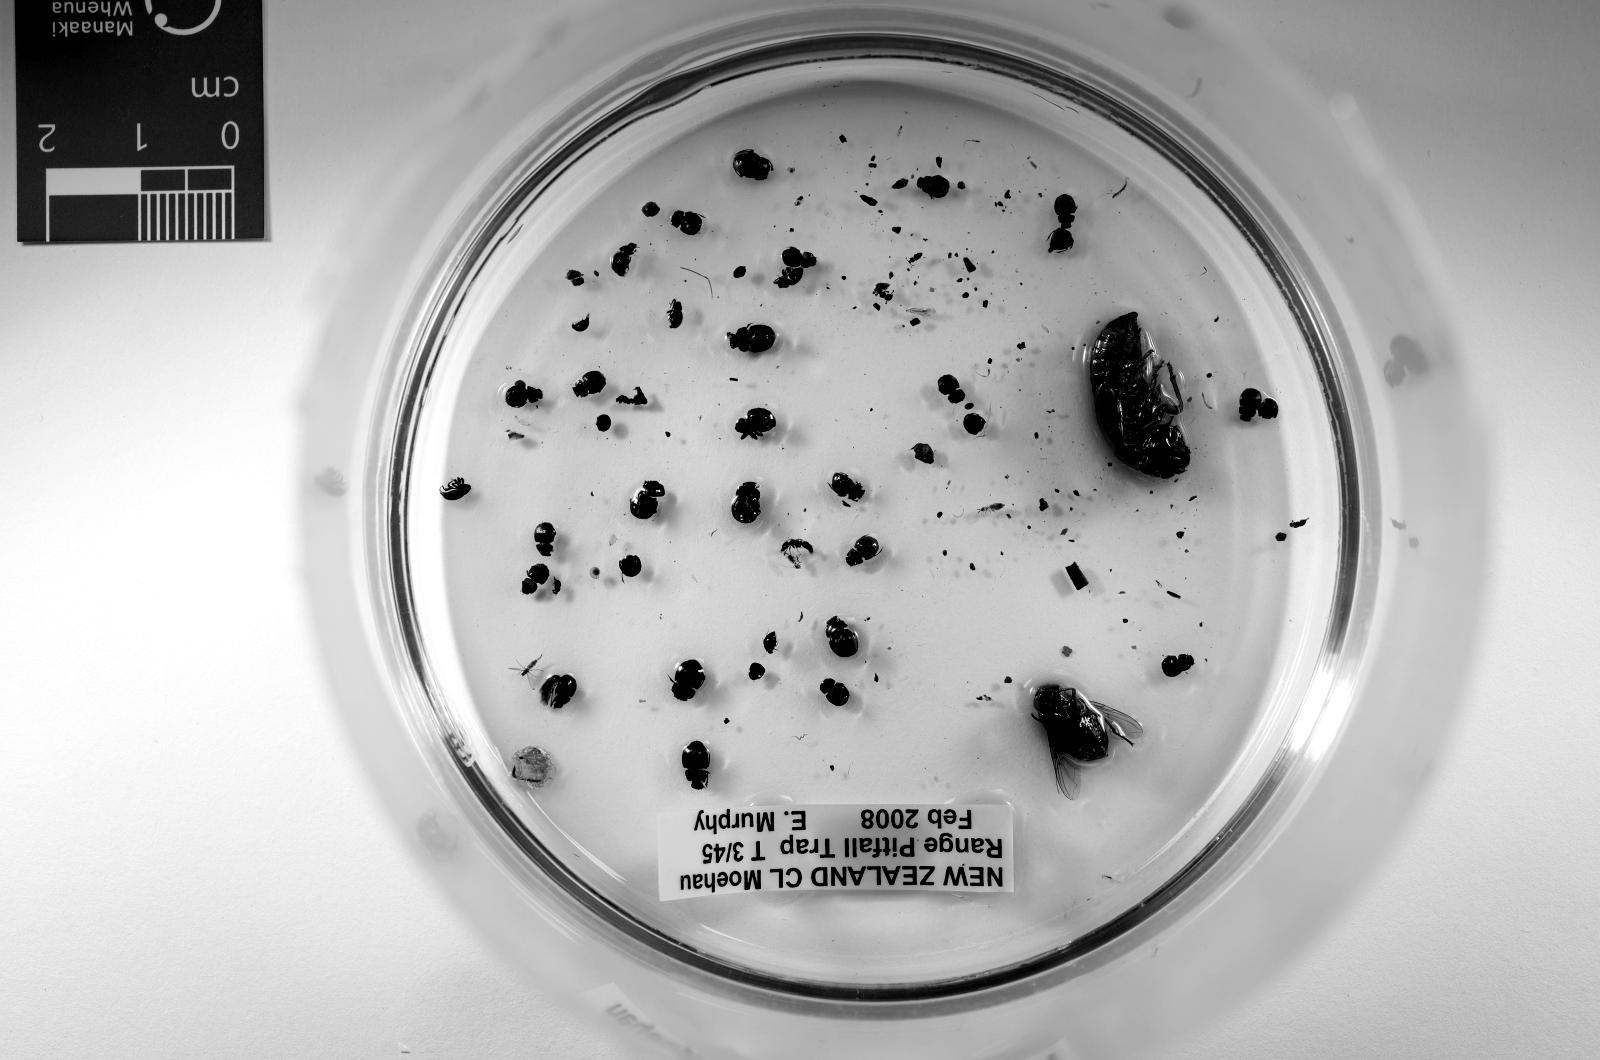coleoptera: (1091, 314, 1191, 478), (672, 658, 706, 702), (628, 481, 666, 519), (825, 618, 859, 658), (681, 742, 709, 789), (728, 326, 775, 354), (734, 407, 775, 438), (731, 481, 759, 525), (734, 149, 772, 180), (847, 534, 878, 568), (609, 242, 638, 276), (831, 472, 866, 500), (550, 674, 578, 708), (522, 562, 550, 596), (506, 382, 544, 407), (938, 373, 966, 404), (819, 677, 850, 705), (1053, 193, 1078, 227), (572, 373, 606, 398), (916, 174, 950, 199), (1238, 388, 1262, 422), (672, 211, 703, 236), (781, 245, 816, 267), (534, 522, 556, 556), (1162, 655, 1194, 677), (441, 478, 472, 500), (775, 267, 803, 289), (669, 301, 684, 329), (762, 630, 778, 652), (572, 314, 591, 332)
collembola: (978, 503, 1003, 512), (788, 553, 800, 568)
diptera: (1031, 683, 1144, 801), (509, 658, 541, 689), (1291, 519, 1306, 528)
formicidae: (781, 537, 812, 553), (872, 283, 894, 301)
gastropoda: (591, 568, 600, 578)
